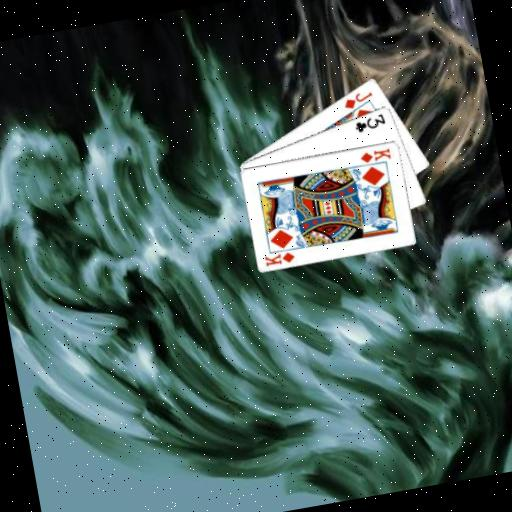3C: (350, 110, 388, 135)
JD: (339, 87, 376, 111)
KD: (356, 144, 393, 165), (261, 247, 297, 268)
